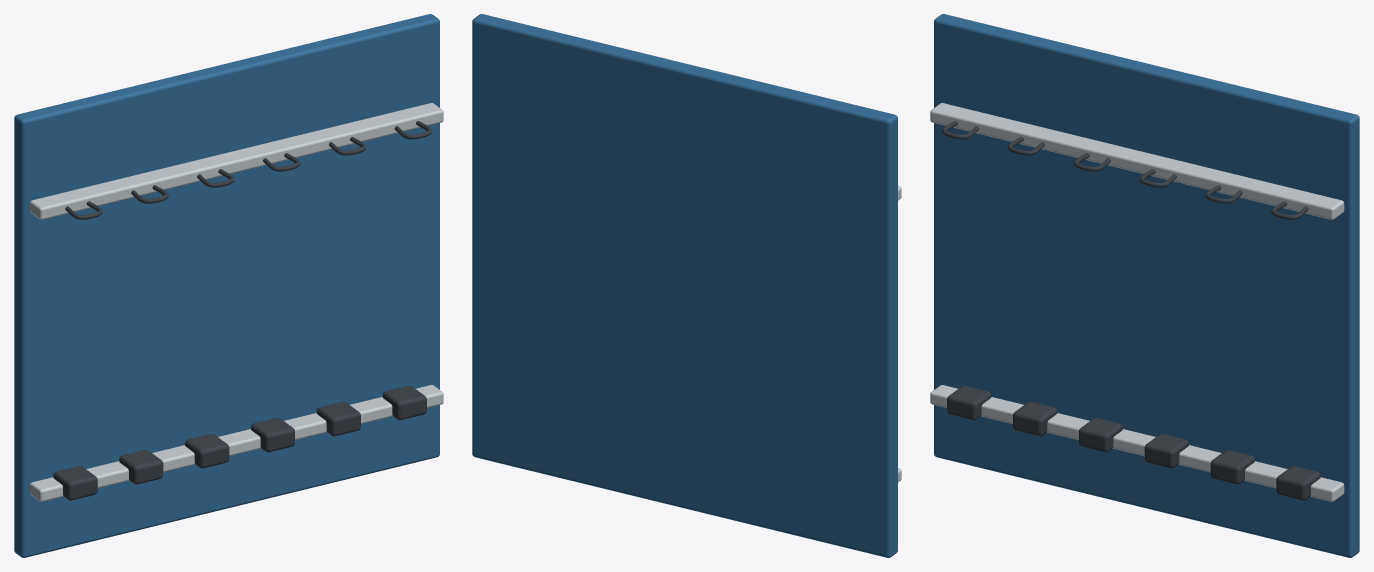
File: fencing-club-and-tournament-piste-weapon-wall-rack-6ac55856__31233.glb
3 views of the same model, side by side, from view 1: azimuth 30°, elevation 25°; view 2: azimuth 150°, elevation 25°; view 3: azimuth 330°, elevation 25° (orthographic).
Parts seen in each view (by area): view 1: weapon-wall-rack; view 2: weapon-wall-rack; view 3: weapon-wall-rack.
Part boxes in pixels (x1=…): weapon-wall-rack: x1=14, y1=14, x2=443, y2=557; weapon-wall-rack: x1=472, y1=14, x2=901, y2=557; weapon-wall-rack: x1=930, y1=14, x2=1359, y2=557.
Size of the model in its own units: 1.4 by 1.4 by 0.2042.
